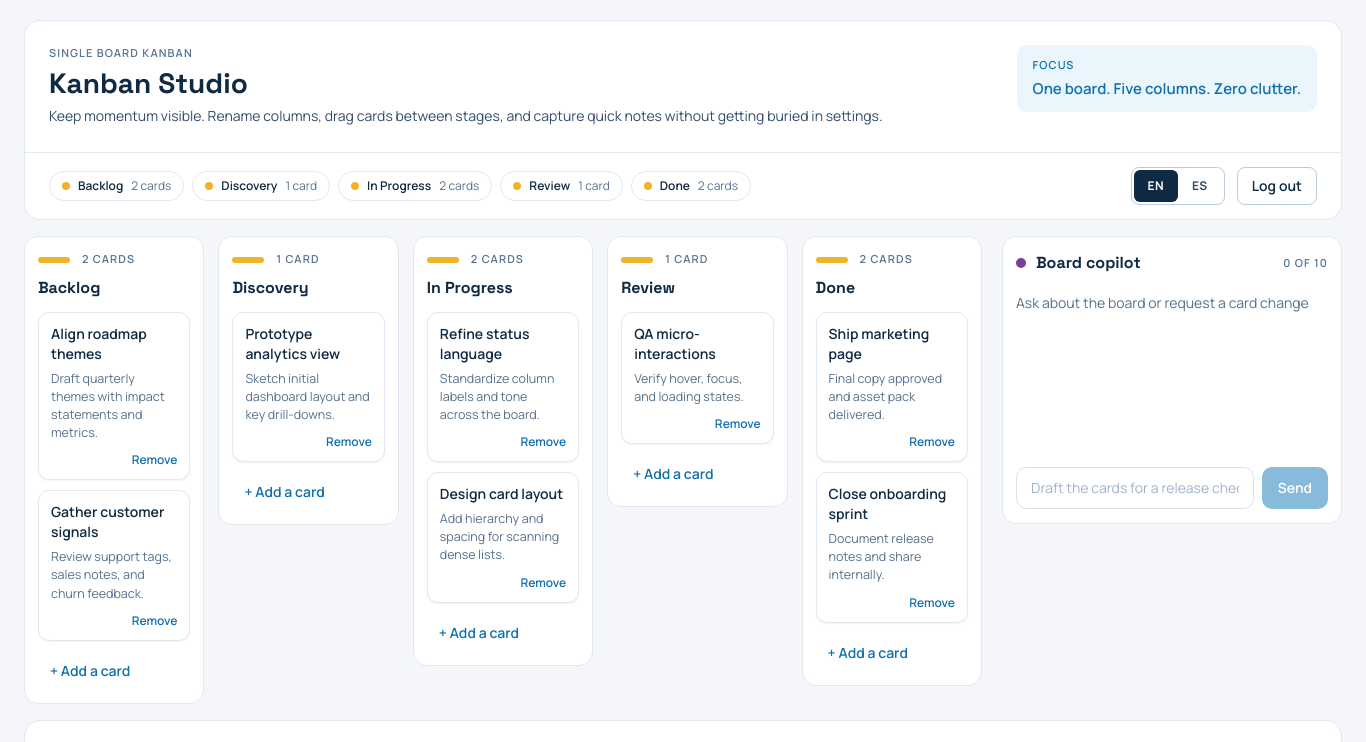
KanbanBoard copilot marker › marks the cards the copilot changed and shows the summary strip
Expected: the element with test id "card-card-1" is shown, [38, 312, 190, 480]
Type "Move Align roadmap themes to Done" into the field named "Ask about the board or request a card change" at (1135, 488), box [1016, 467, 1254, 509]
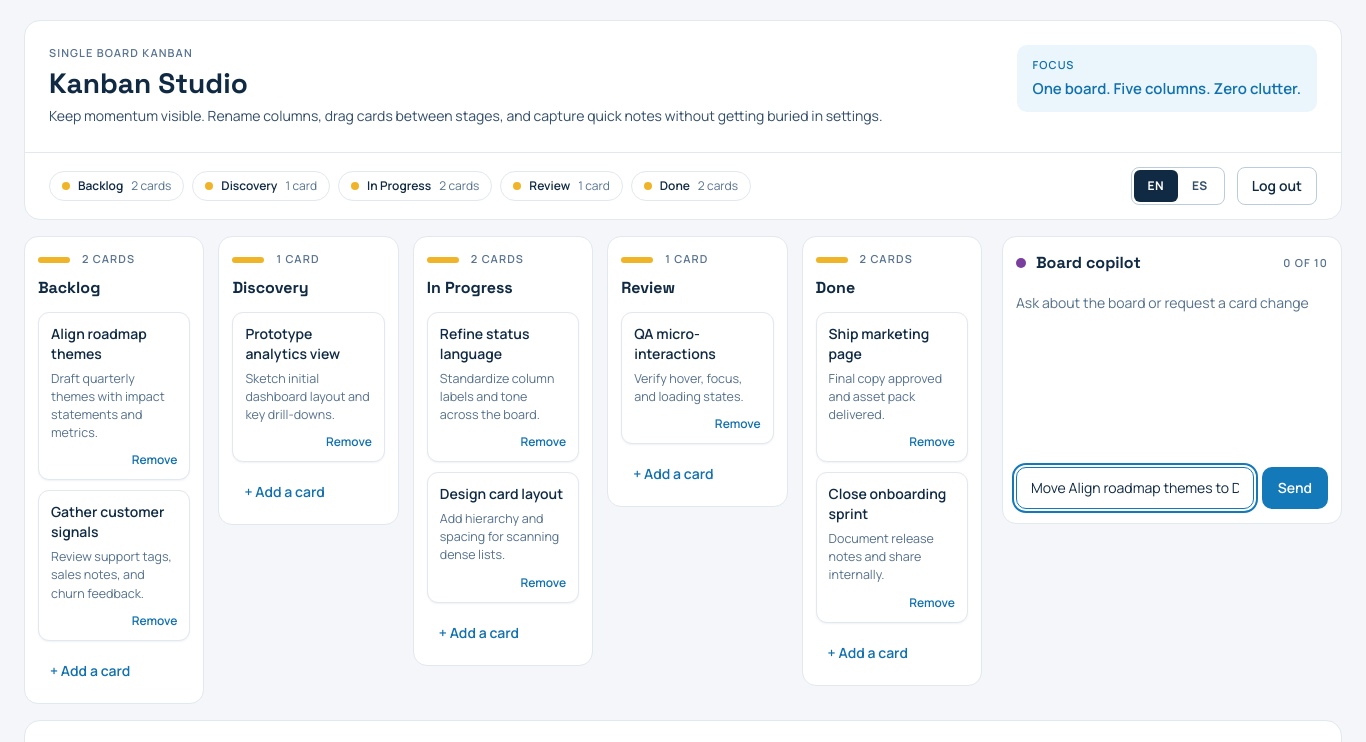
Click the button "Send" at (1295, 488), box [1262, 467, 1328, 509]
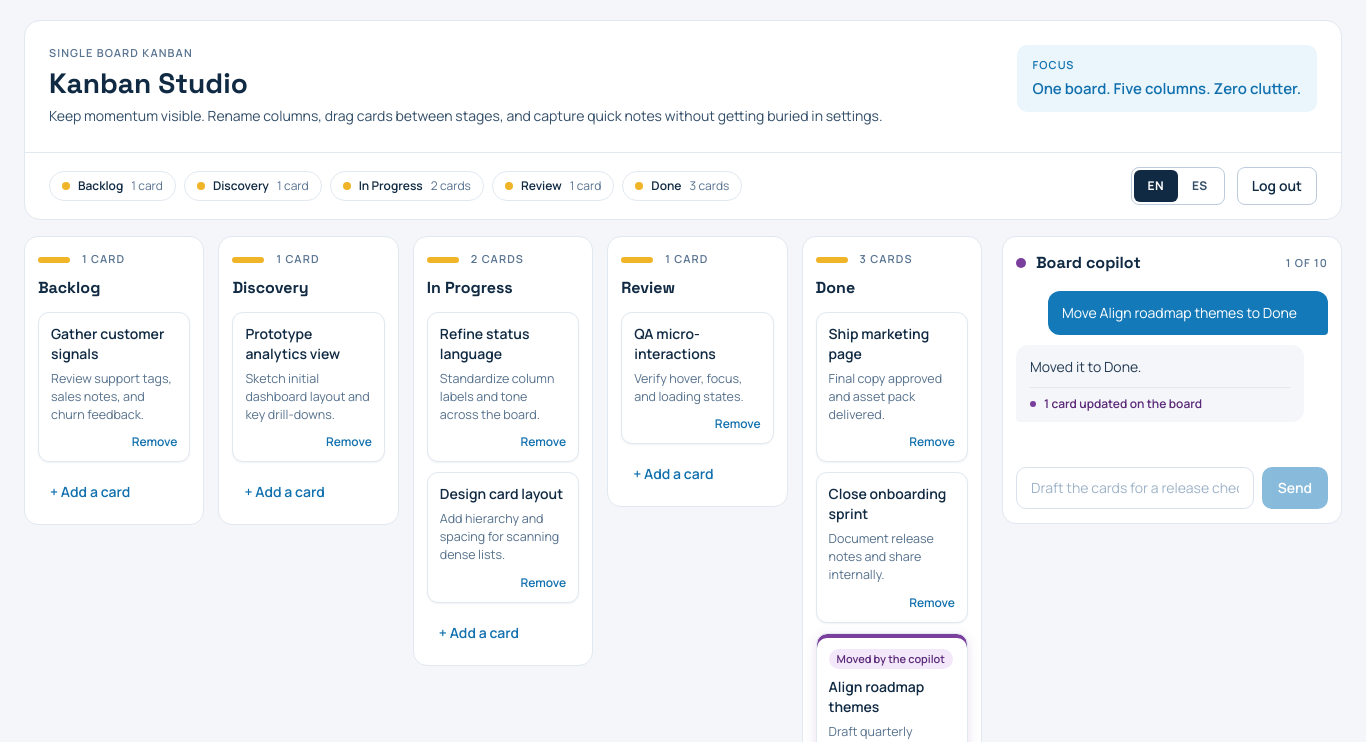
Expected: the text "Moved by the copilot" is shown, [829, 648, 953, 669]
Expected: the element with test id "copilot-summary" reads "1 card updated on the board", [1044, 395, 1202, 412]
Expected: the text with test id "copilot-counter" reads "1 of 10", [1286, 255, 1328, 270]
